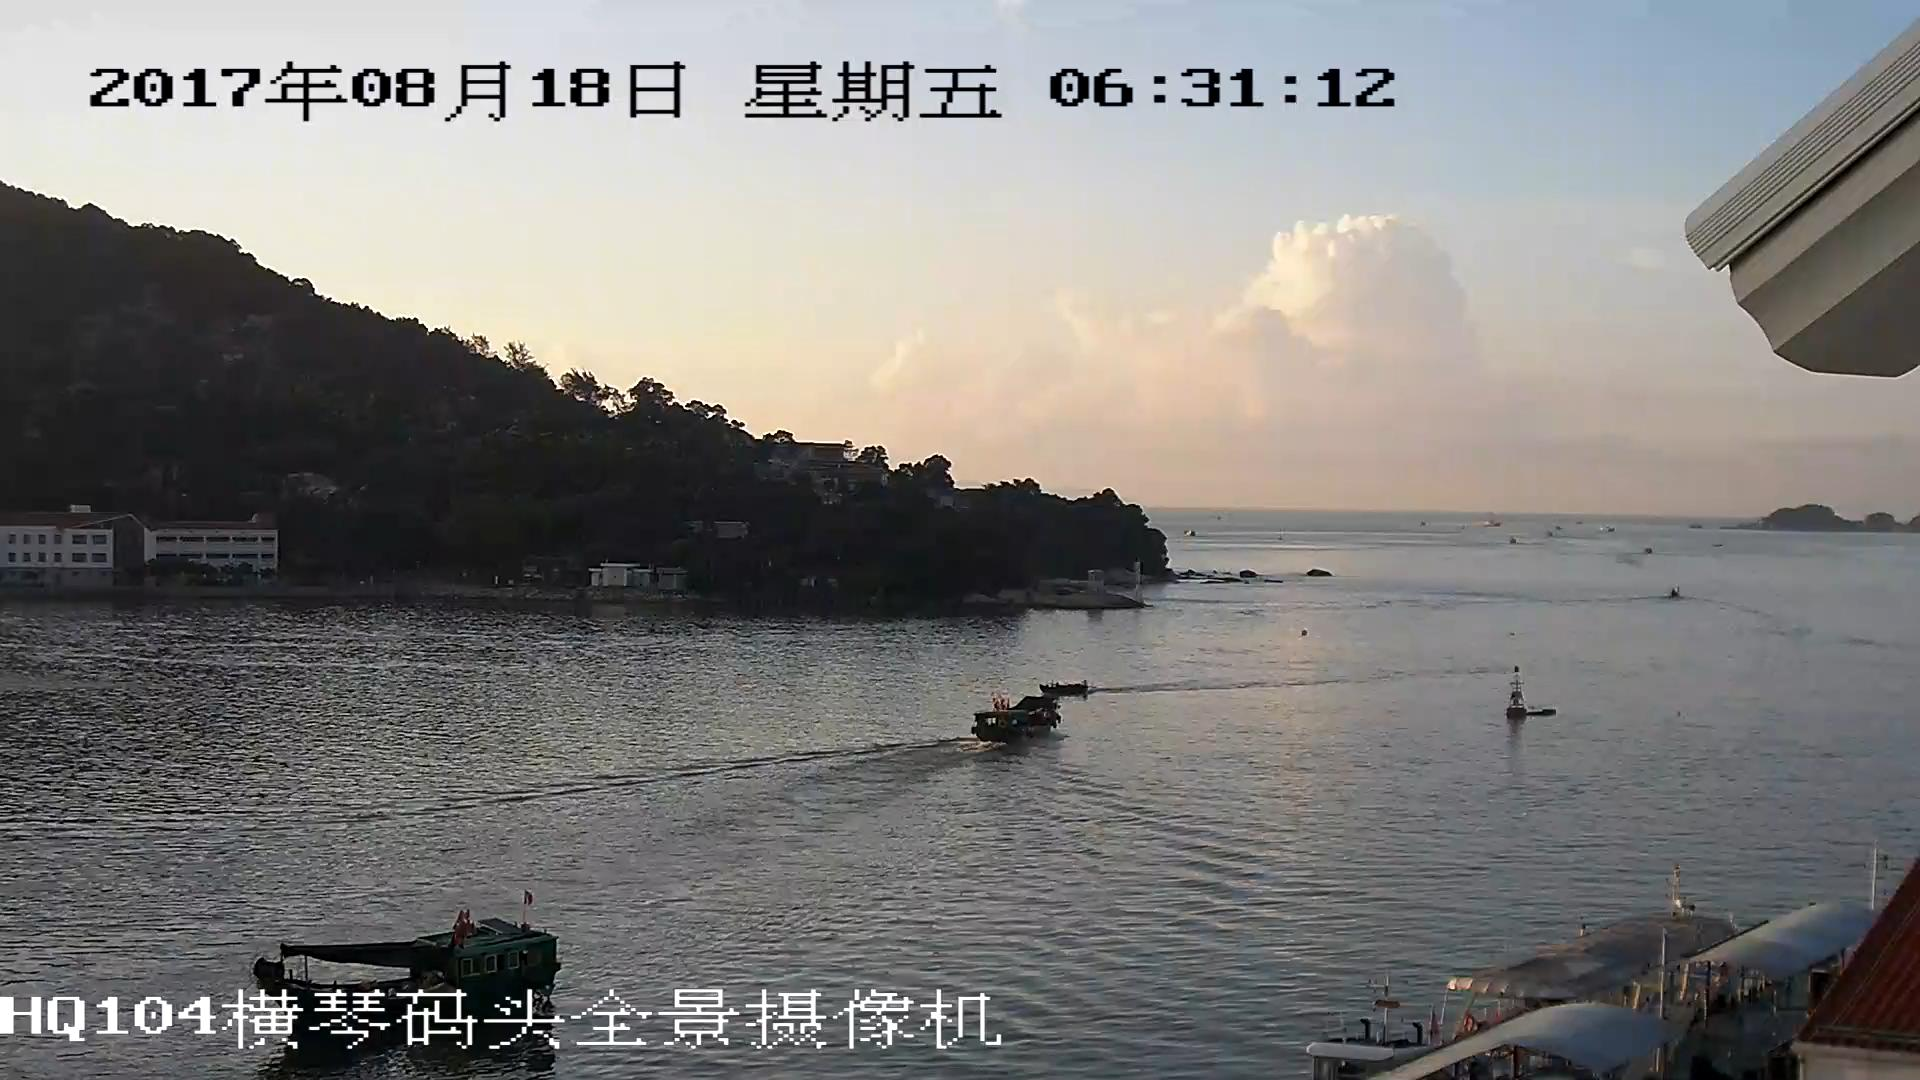fishing boat: (257, 922, 561, 990), (973, 686, 1056, 738)
